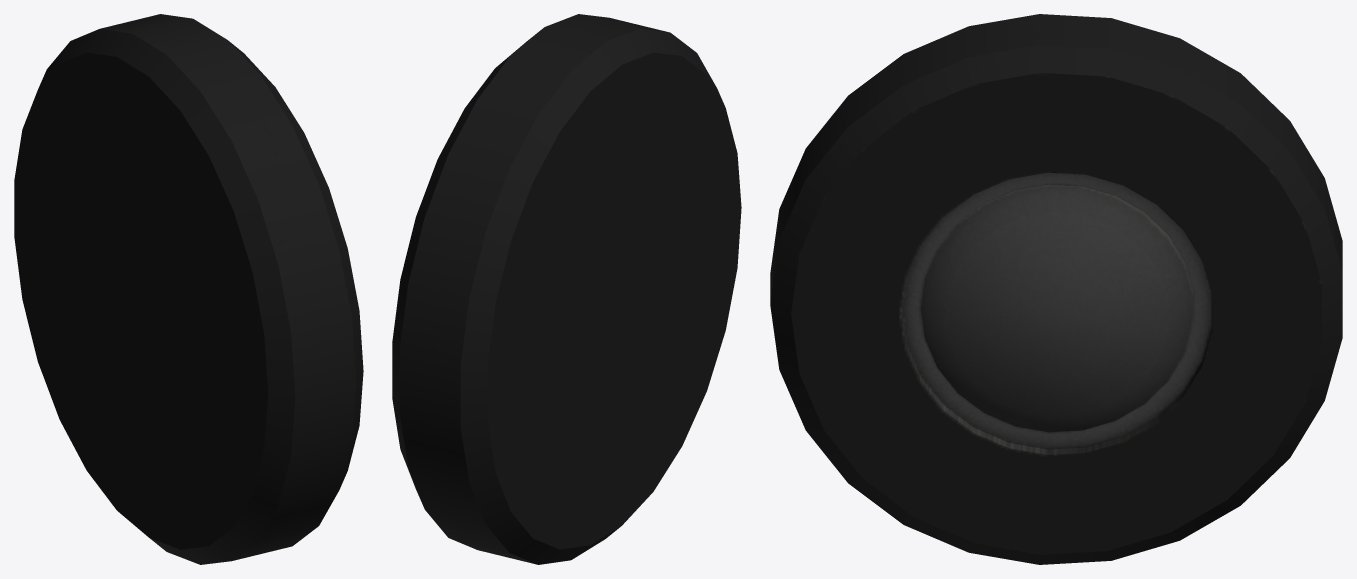
File: JeepTire.fbx
3 renders of one model, left to right at view 1: azimuth 30°, elevation 25°; view 2: azimuth 150°, elevation 25°; view 3: azimuth 270°, elevation 25°, orthographic. The views are drawn at different scales.
Parts seen in each view (by area): view 1: Tire; view 2: Tire; view 3: Tire.
Boxes of the visible parts, left/top/right/bottom form: Tire: left=14, top=14, right=363, bottom=564; Tire: left=392, top=14, right=741, bottom=564; Tire: left=770, top=14, right=1342, bottom=564.
Size of the model in its own units: 16.65 by 69.84 by 69.71.
